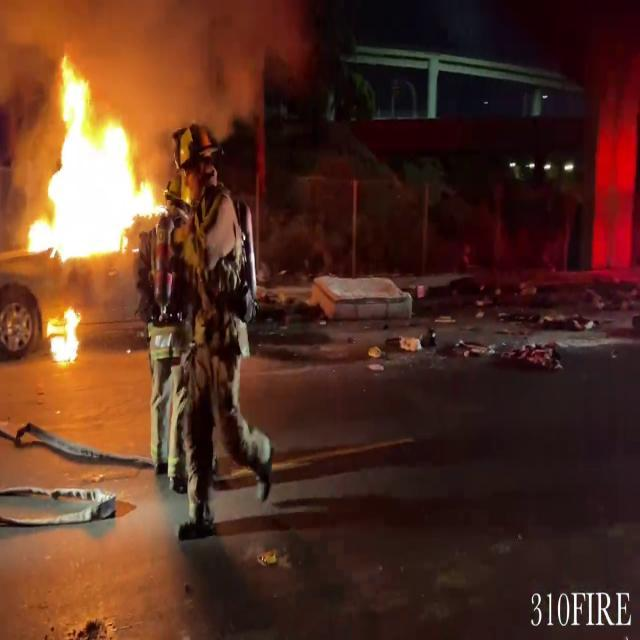Fire: (15, 56, 166, 266), (43, 301, 88, 368)
Smoke: (2, 0, 314, 127)
